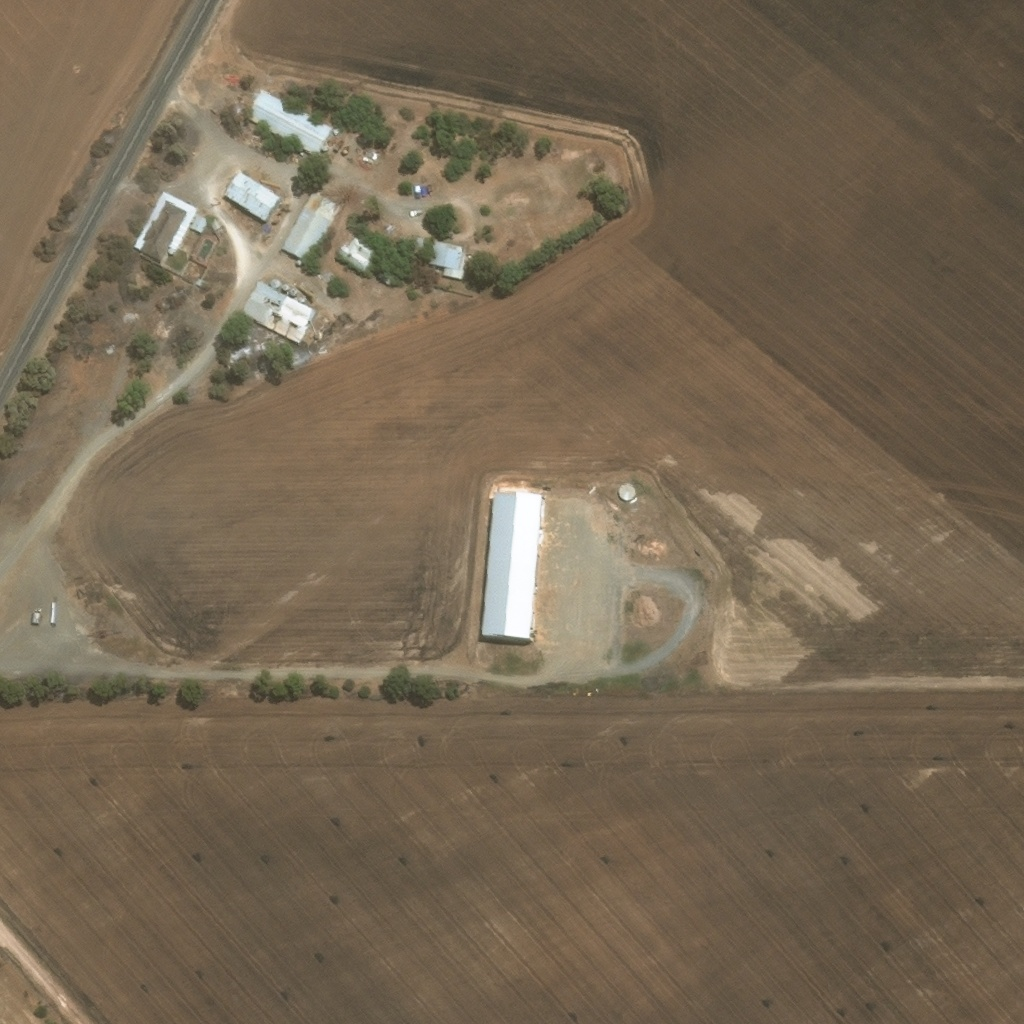0 no-damage: (484, 487, 548, 643), (244, 87, 334, 157), (241, 279, 317, 344), (133, 189, 199, 261), (281, 191, 340, 262), (224, 168, 281, 220), (339, 235, 376, 270), (429, 239, 463, 268), (443, 247, 466, 278), (191, 213, 209, 232), (618, 484, 636, 501), (410, 234, 426, 253), (210, 217, 221, 230), (270, 277, 282, 287), (295, 258, 304, 266), (332, 128, 341, 136), (291, 287, 299, 295), (282, 283, 290, 290)
4 un-classified: (377, 268, 398, 288), (304, 296, 323, 309), (314, 331, 320, 337)
